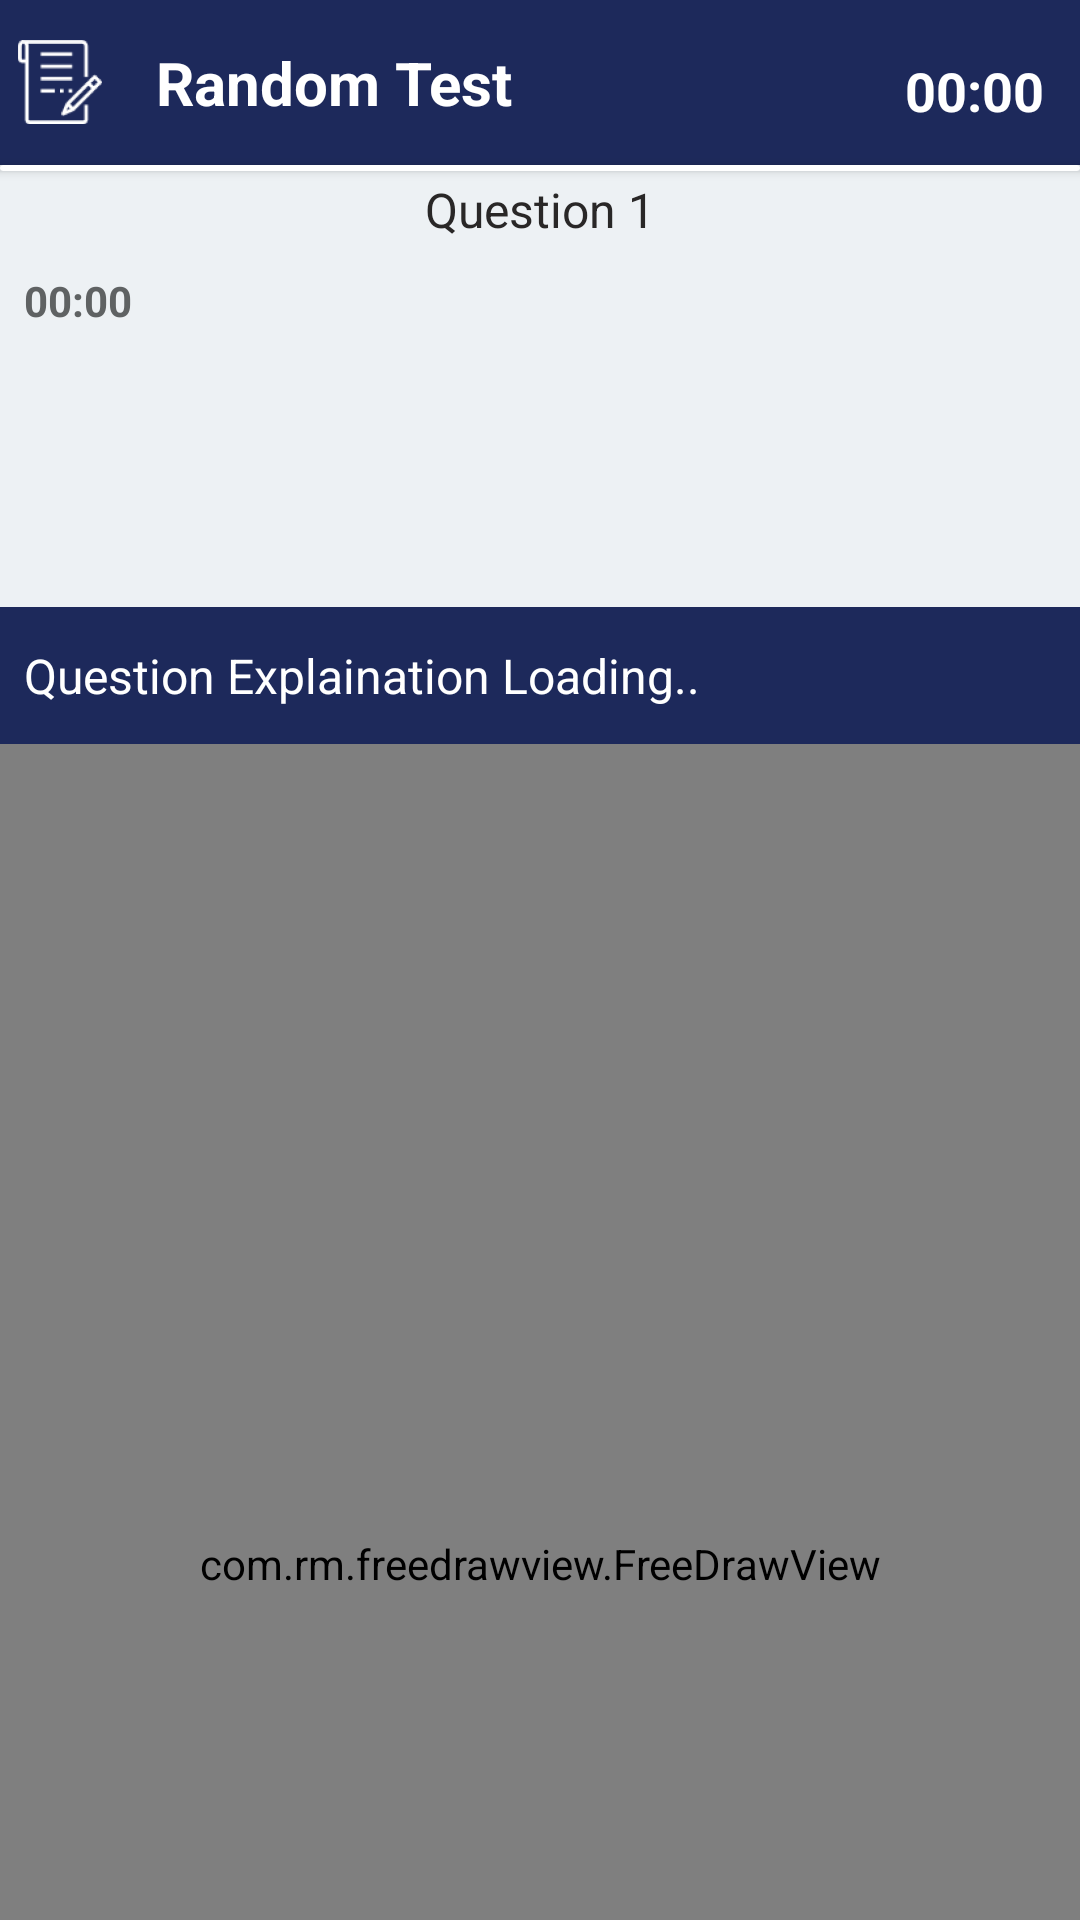

Locate icon controls on the screen. Image size 1080 x 1920, boxes as (x1, y1, x2, y2).
freenote: (18, 40, 102, 124)
